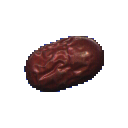gd: (19, 28, 115, 104)
